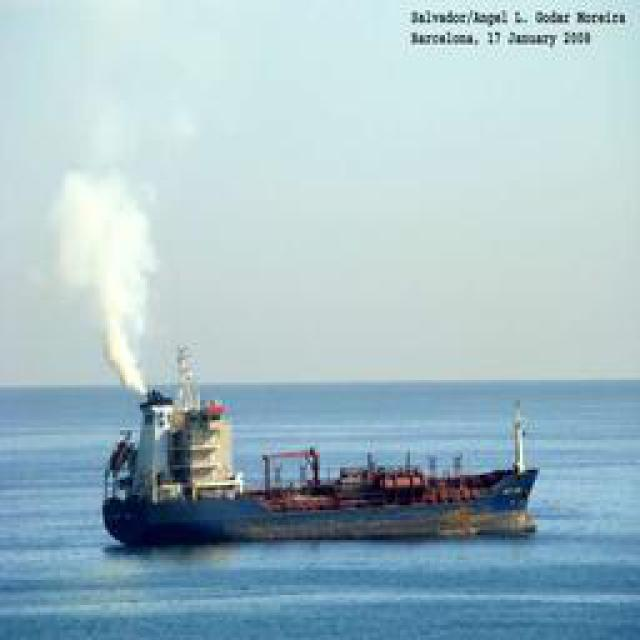Ship: (101, 357, 541, 550)
